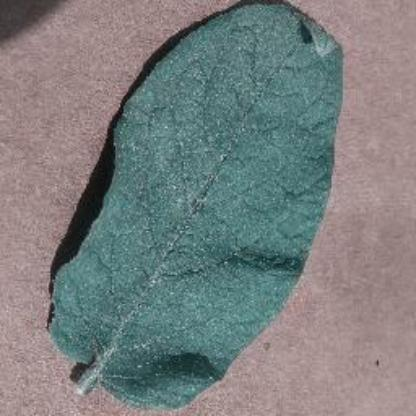Healthy-plant: (47, 3, 347, 410)
